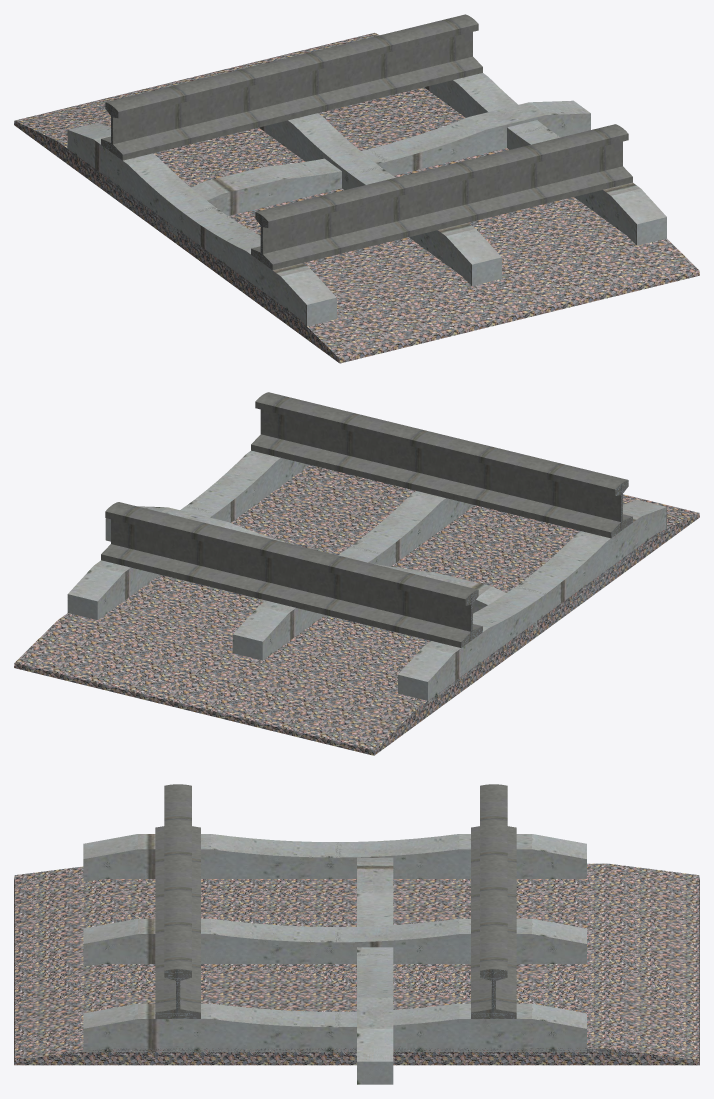
3 renders of one model, top to bottom at view 1: azimuth 30°, elevation 25°; view 2: azimuth 150°, elevation 25°; view 3: azimuth 270°, elevation 25°, orthographic. The views are drawn at different scales.
Visible parts, largest first — view 1: RailGravelBed (×2), RailProfile (×2), Rail_Concrete_Sleeper (×4); view 2: RailGravelBed (×2), RailProfile (×2), Rail_Concrete_Sleeper (×4); view 3: RailGravelBed (×2), Rail_Concrete_Sleeper (×4), RailProfile (×4).
Part boxes in pixels (bbox=[...]): RailGravelBed (×2): bbox=[14, 33, 699, 363]; RailProfile (×2): bbox=[101, 14, 632, 270]; Rail_Concrete_Sleeper (×4): bbox=[67, 73, 666, 326]; RailGravelBed (×2): bbox=[14, 465, 699, 755]; RailProfile (×2): bbox=[101, 392, 632, 647]; Rail_Concrete_Sleeper (×4): bbox=[67, 450, 666, 703]; RailGravelBed (×2): bbox=[14, 863, 699, 1065]; Rail_Concrete_Sleeper (×4): bbox=[83, 834, 586, 1084]; RailProfile (×4): bbox=[155, 784, 516, 1018].
Size of the model in its own units: 109 by 148 by 22.83.
